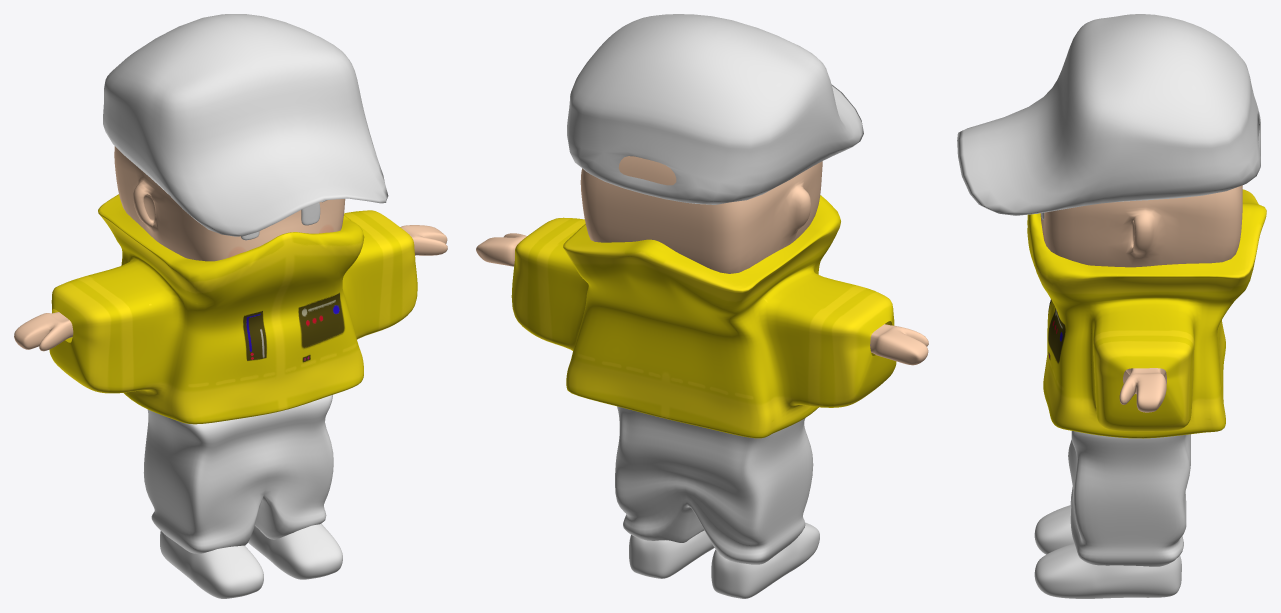
File: chica_futuristanormales.fbx
3 views of the same model, side by side, from view 1: azimuth 30°, elevation 25°; view 2: azimuth 150°, elevation 25°; view 3: azimuth 270°, elevation 25° (orthographic). The views are drawn at different scales.
Visible parts, largest first — view 1: Abrigo, Gorra, Pantalones, Cuerpo, Zapatillas; view 2: Abrigo, Gorra, Pantalones, Cuerpo, Zapatillas; view 3: Gorra, Abrigo, Pantalones, Cuerpo, Zapatillas.
Boxes of the visible parts, <box> form: Abrigo: <box>49,194,417,424</box>; Gorra: <box>103,14,388,236</box>; Pantalones: <box>143,395,333,553</box>; Cuerpo: <box>14,146,447,351</box>; Zapatillas: <box>160,523,342,598</box>; Abrigo: <box>511,195,896,438</box>; Gorra: <box>567,14,863,204</box>; Pantalones: <box>615,406,813,564</box>; Cuerpo: <box>476,156,928,365</box>; Zapatillas: <box>629,522,819,598</box>; Gorra: <box>957,14,1260,215</box>; Abrigo: <box>1027,189,1266,438</box>; Pantalones: <box>1068,431,1190,566</box>; Cuerpo: <box>1040,185,1242,412</box>; Zapatillas: <box>1034,505,1181,598</box>.
Bounding box in the file's own units: 202 × 239 × 124.
